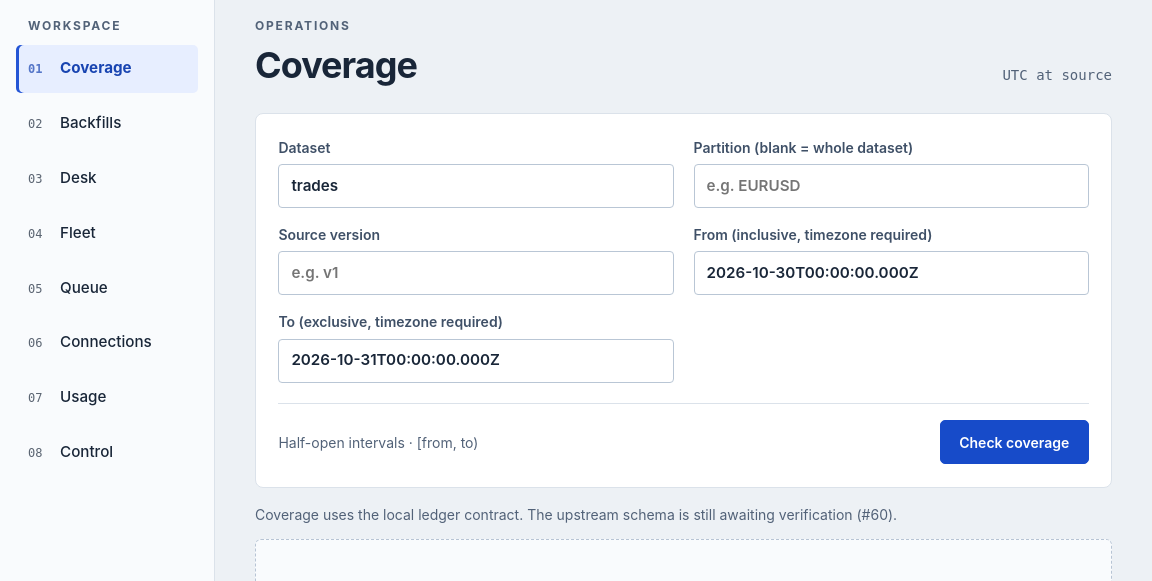
Test: refuses to run an action on an empty selection
Click the button "08 Control": [107, 452] box [16, 428, 198, 476]
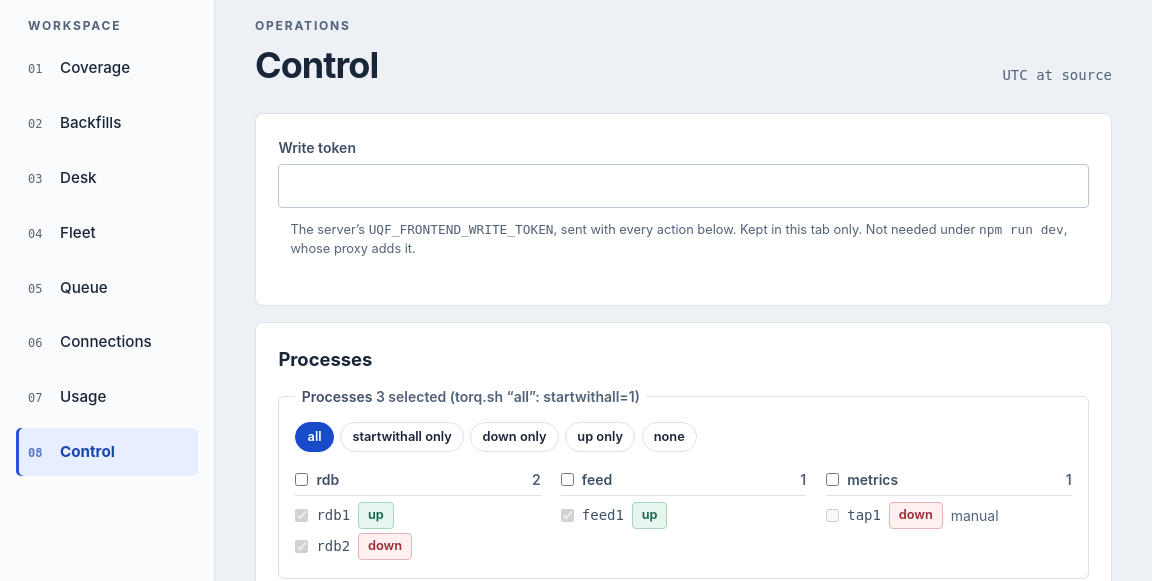
Click the button "none": [669, 437] box [642, 422, 697, 452]
(page scrolled)
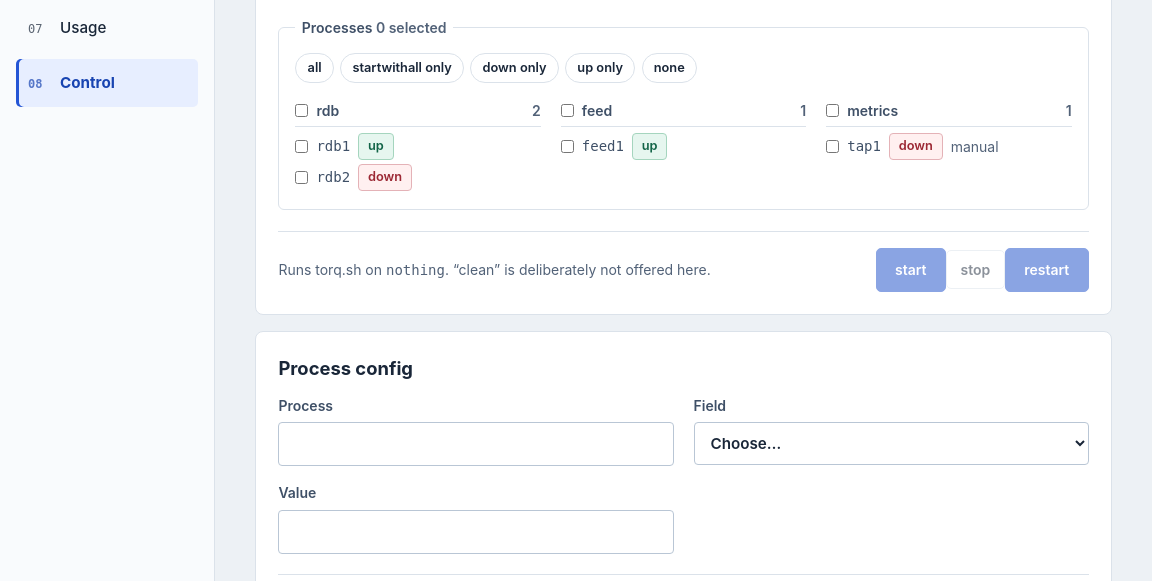
Now the button "start" is disabled, box [876, 248, 946, 292]
